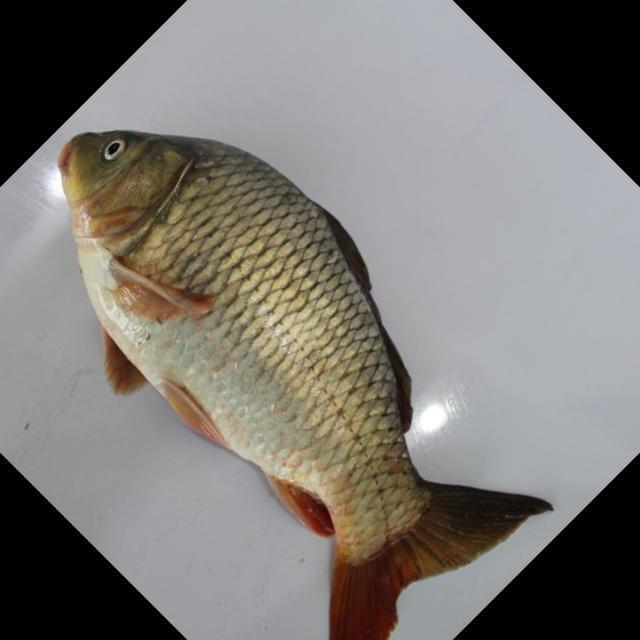CommonCarp: (56, 123, 557, 639)
